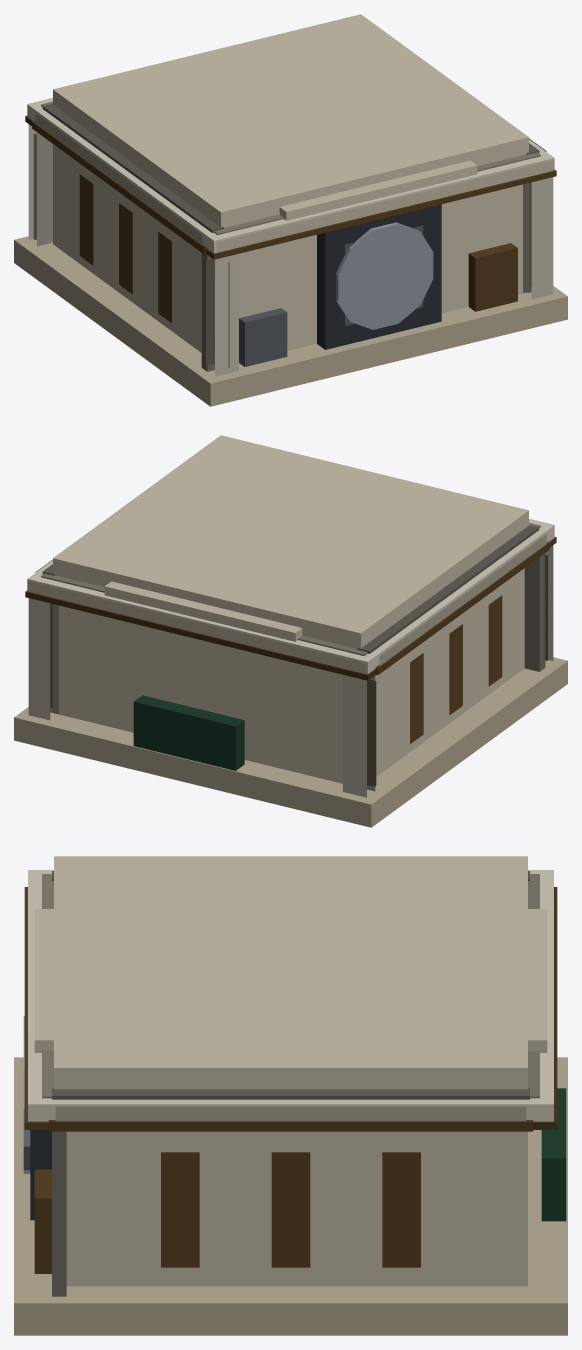
The model's file is PocketSafeSil.fbx.
3 views of the same model, one above another, from view 1: azimuth 30°, elevation 25°; view 2: azimuth 150°, elevation 25°; view 3: azimuth 270°, elevation 25° (orthographic). The views are drawn at different scales.
Visible parts, largest first — view 1: PS_S_All; view 2: PS_S_All; view 3: PS_S_All.
Boxes of the visible parts, left/top/right/bottom form: PS_S_All: left=14, top=14, right=567, bottom=406; PS_S_All: left=14, top=435, right=567, bottom=827; PS_S_All: left=14, top=856, right=567, bottom=1335.
Size of the model in its own units: 42.04 by 20 by 40.04.
